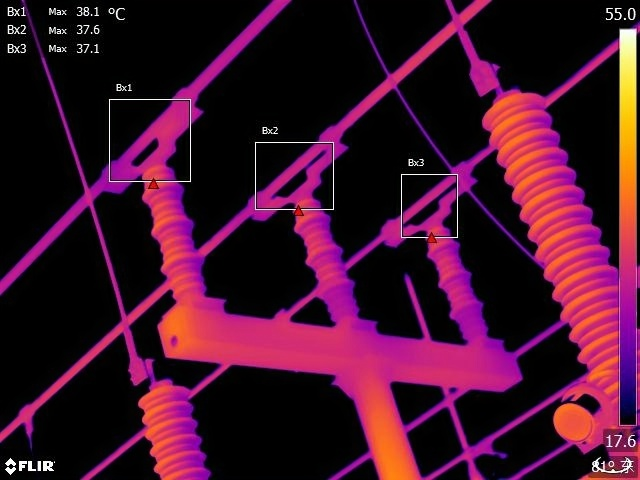clamp: (15, 386, 42, 451)
lightning arrester: (460, 39, 640, 473), (114, 323, 222, 480)
post insulator: (140, 161, 214, 298), (292, 195, 363, 320), (420, 223, 492, 345)
